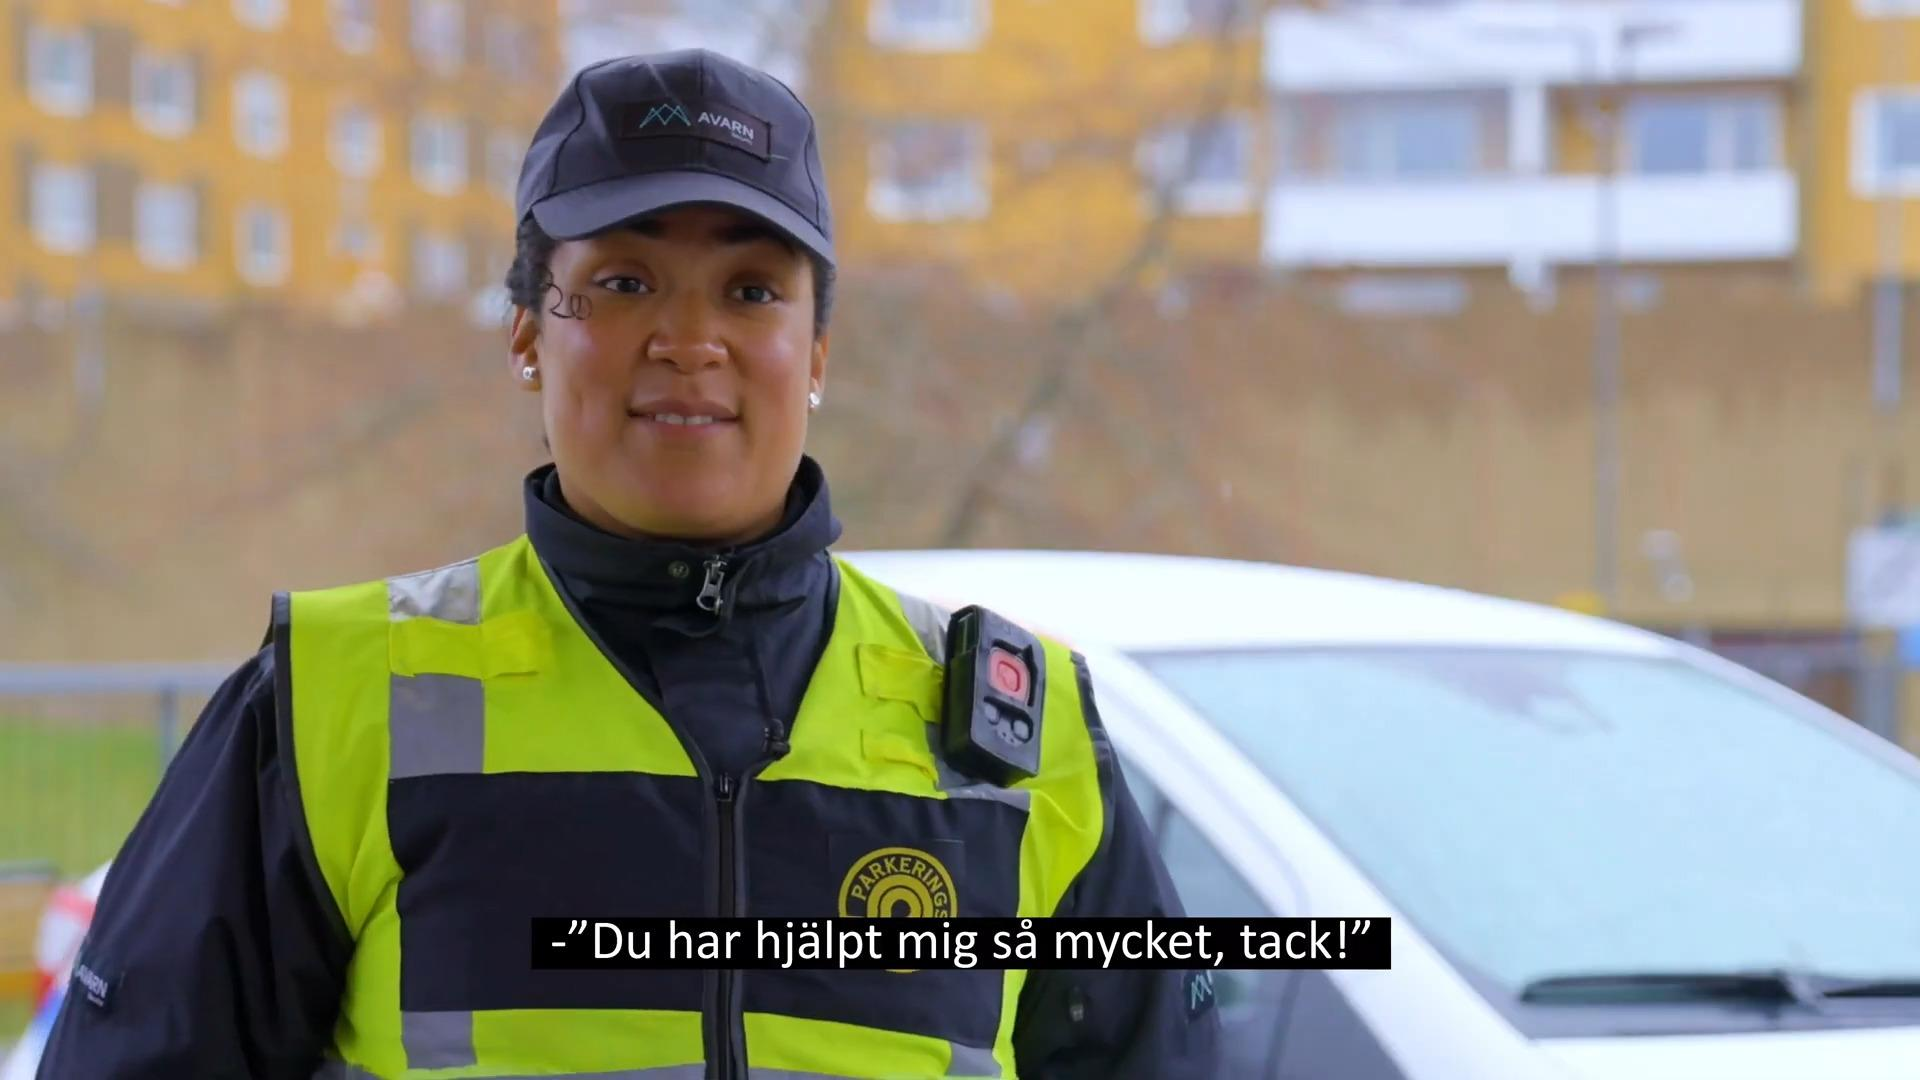parking-attendant: (40, 50, 1218, 1079)
